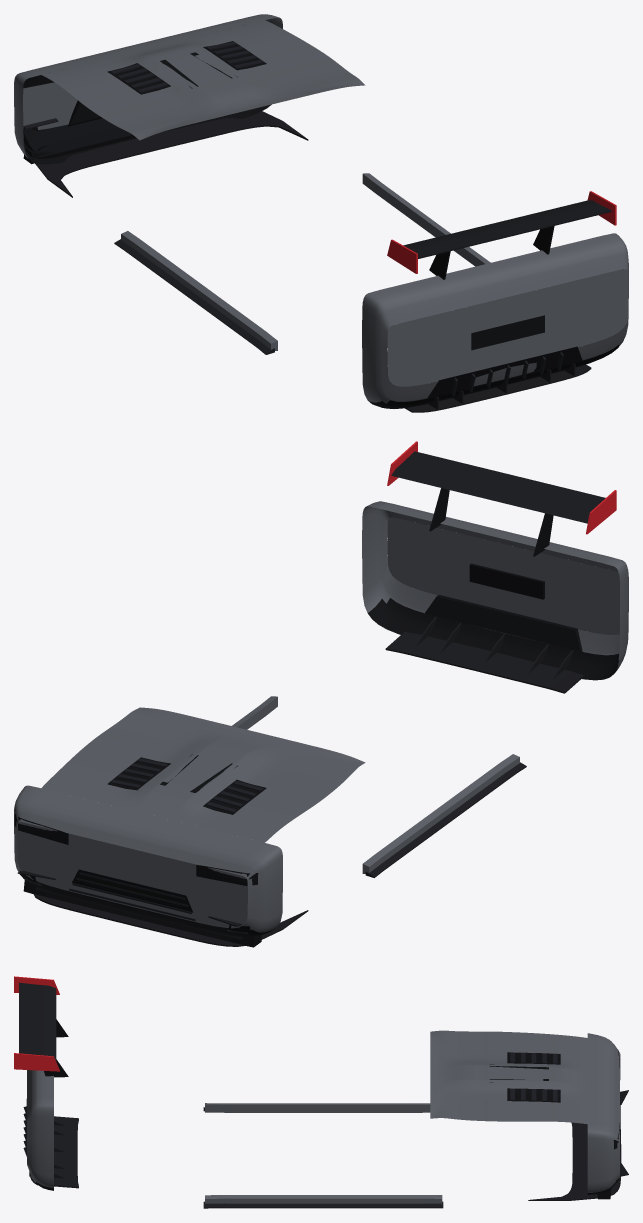
The model's file is kit_track.glb.
3 views of the same model, one above another, from view 1: azimuth 30°, elevation 25°; view 2: azimuth 150°, elevation 25°; view 3: azimuth 270°, elevation 25° (orthographic). The views are drawn at different scales.
Visible parts, largest first — view 1: bumper_front__track, bumper_rear__track, hood__track, skirts__track, spoiler__track; view 2: bumper_front__track, hood__track, bumper_rear__track, spoiler__track, skirts__track; view 3: hood__track, bumper_front__track, skirts__track, bumper_rear__track, spoiler__track.
Part boxes in pixels (bbox=[...]): bumper_front__track: bbox=[14, 14, 628, 386]; bumper_rear__track: bbox=[362, 233, 628, 412]; hood__track: bbox=[41, 20, 365, 140]; skirts__track: bbox=[114, 173, 490, 354]; spoiler__track: bbox=[387, 191, 616, 279]; bumper_front__track: bbox=[14, 517, 619, 947]; hood__track: bbox=[41, 707, 365, 842]; bumper_rear__track: bbox=[362, 501, 628, 693]; spoiler__track: bbox=[387, 441, 616, 556]; skirts__track: bbox=[232, 696, 526, 877]; hood__track: bbox=[430, 1030, 587, 1124]; bumper_front__track: bbox=[528, 1033, 628, 1200]; skirts__track: bbox=[203, 1103, 443, 1208]; bumper_rear__track: bbox=[23, 1070, 78, 1190]; spoiler__track: bbox=[14, 976, 68, 1077].
Size of what is drawn, in the model's own units: 1.91 by 1.27 by 4.94.
